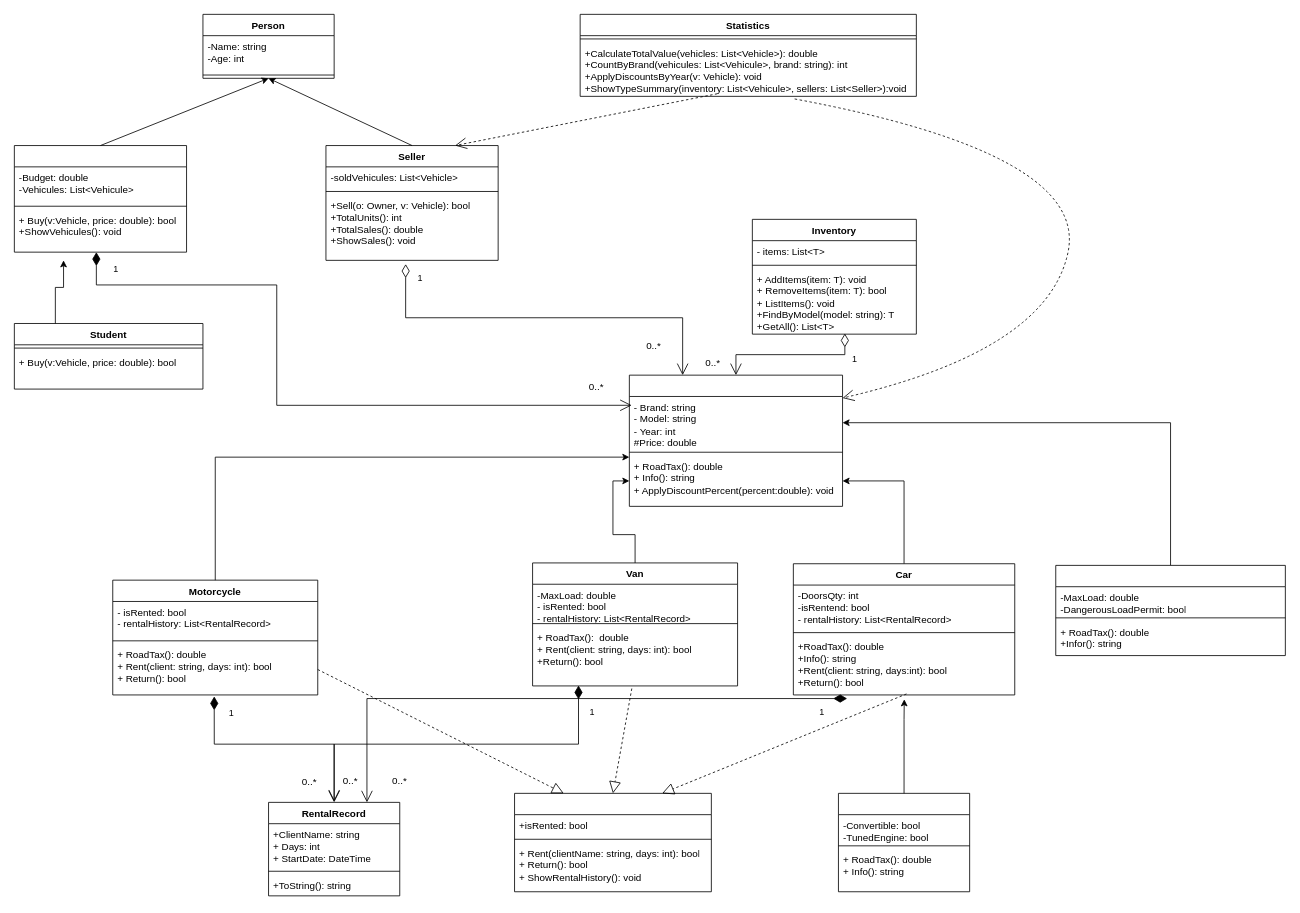
The diagram is 1300 pixels wide and 913 high, and some of its shapes have lost their labels. The box of each missing label's shape, as (x1, y1, x2, y2) in pixels:
IRentable: (514, 793, 711, 892)
Owner: (14, 145, 187, 252)
SportCar: (838, 793, 970, 892)
Truck: (1055, 565, 1285, 656)
Vehicle: (629, 374, 843, 506)
